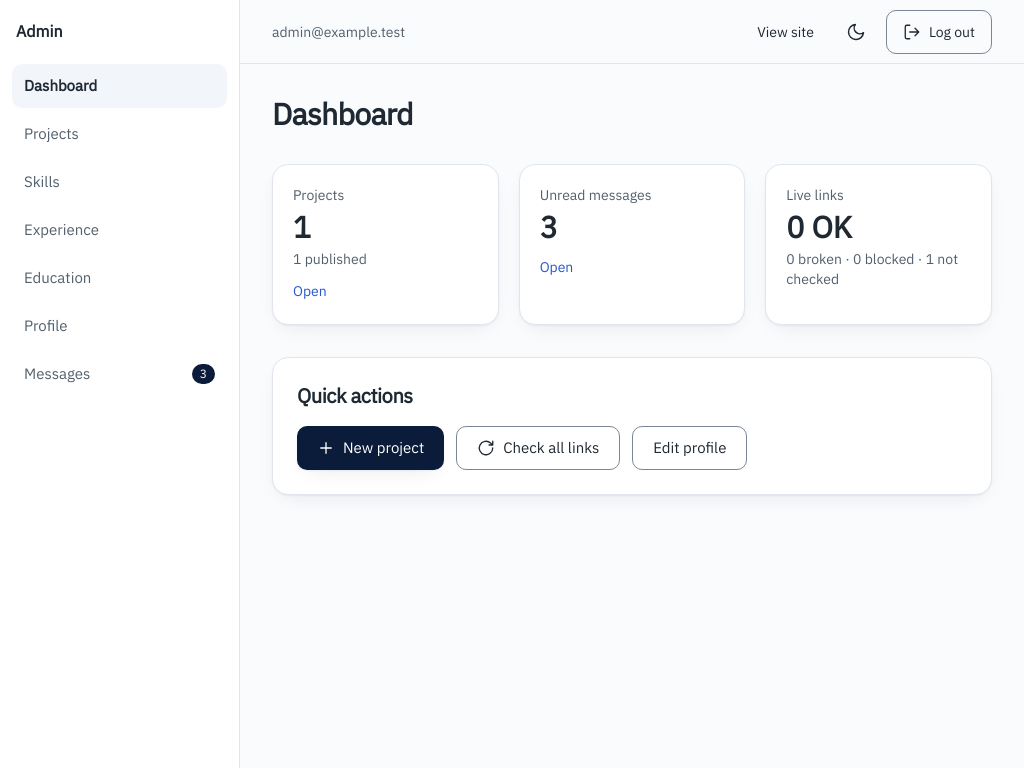
it: admin authentication › logs out and returns to the login page
Click the button "Log out" at [939, 32], box [886,10,992,54]
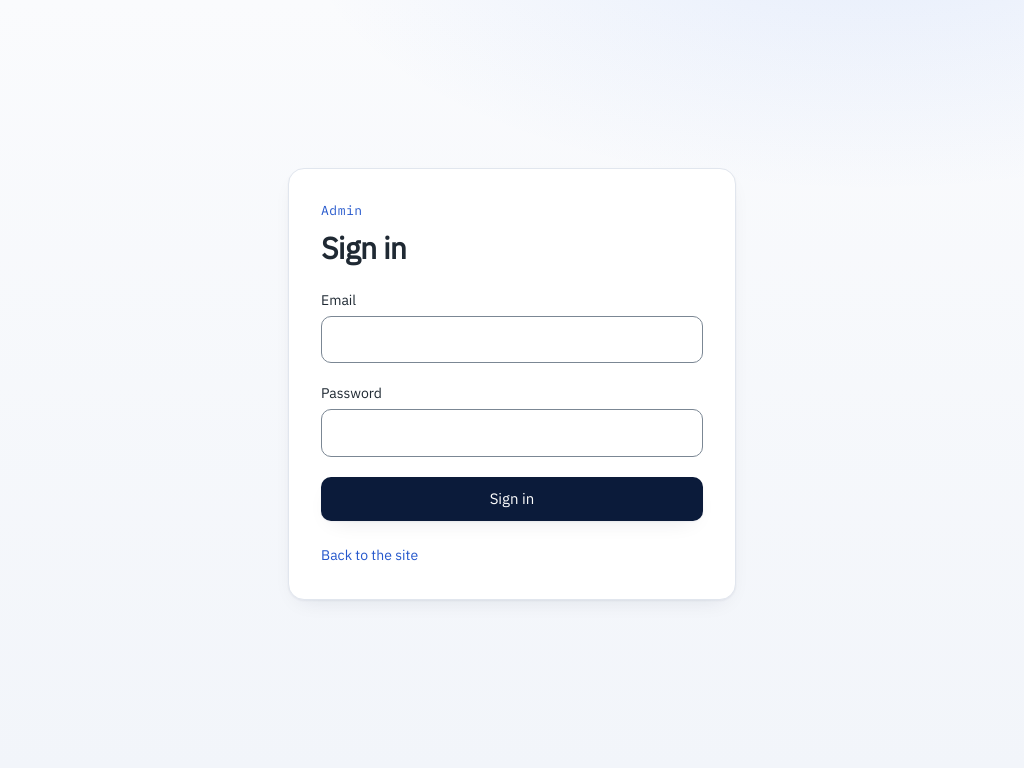
Result: the heading "Sign in" is shown at [321,228,406,266]
